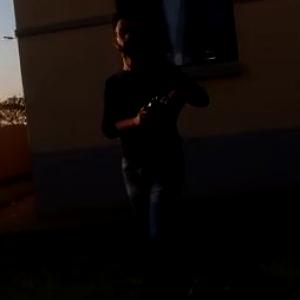follow: (89, 0, 218, 299)
